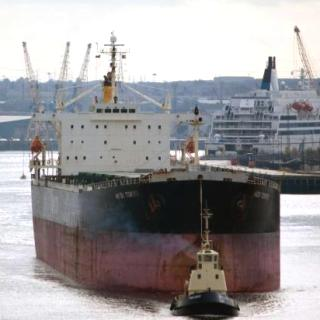Bulk Carrier: (17, 18, 286, 304)
